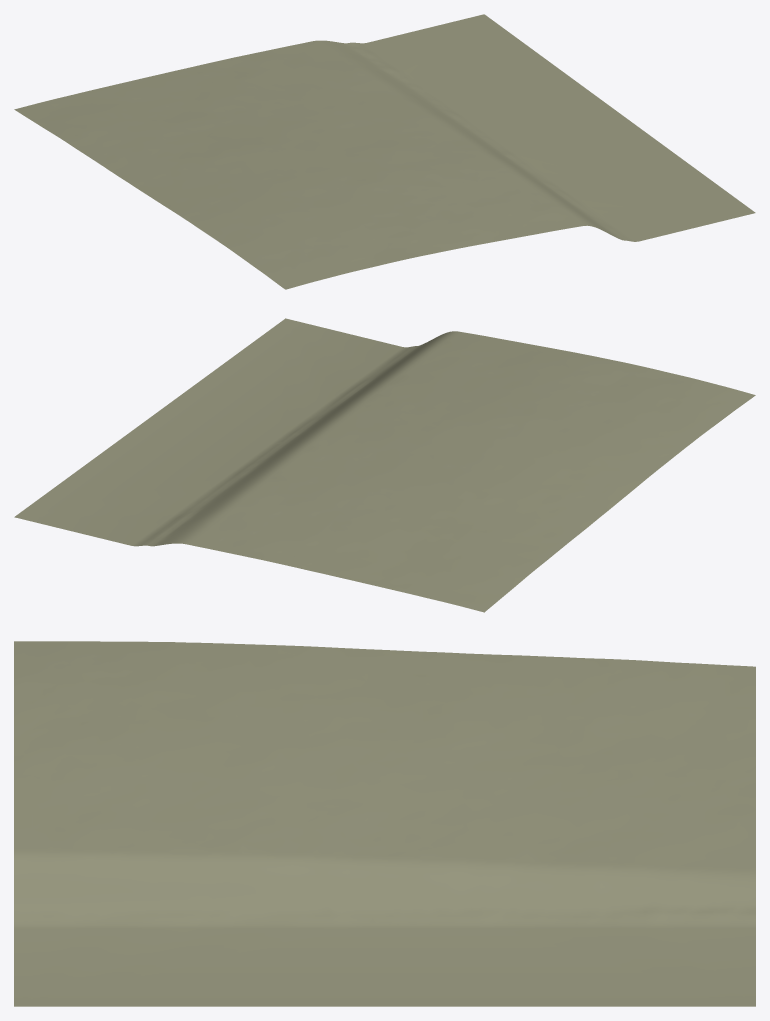
File: SM_VB_CityTerrain_0_4.fbx
3 renders of one model, top to bottom at view 1: azimuth 30°, elevation 25°; view 2: azimuth 150°, elevation 25°; view 3: azimuth 270°, elevation 25°, orthographic. The views are drawn at different scales.
Visible parts, largest first — view 1: SM_VB_CityTerrain_0_4; view 2: SM_VB_CityTerrain_0_4; view 3: SM_VB_CityTerrain_0_4.
Part boxes in pixels (box(x1,y1,x2,y2)): SM_VB_CityTerrain_0_4: box(14, 14, 755, 289); SM_VB_CityTerrain_0_4: box(14, 318, 755, 612); SM_VB_CityTerrain_0_4: box(14, 641, 755, 1006).
Size of the model in its own units: 600 by 48.17 by 600.
